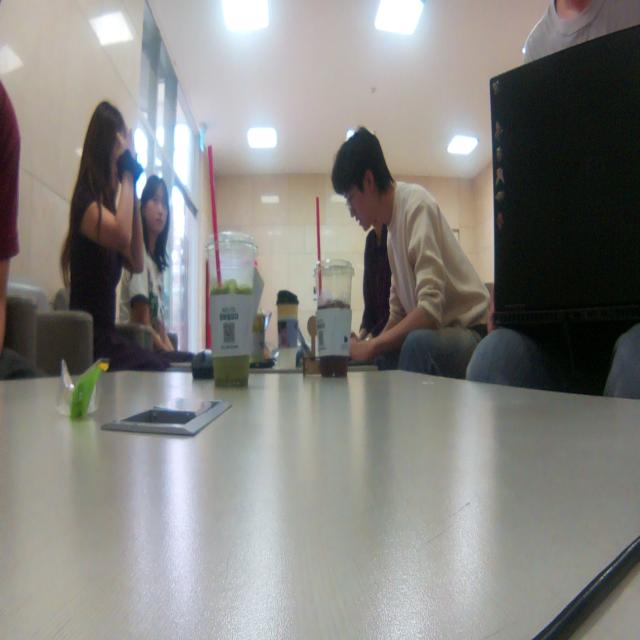target: (303, 316, 320, 376)
